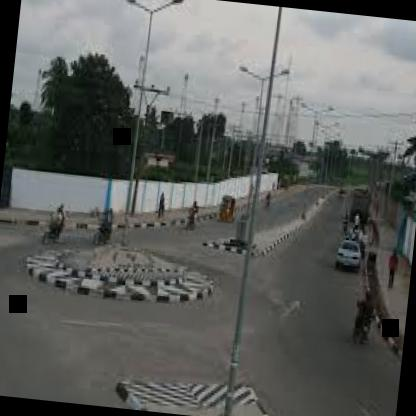car: (332, 235, 369, 274)
